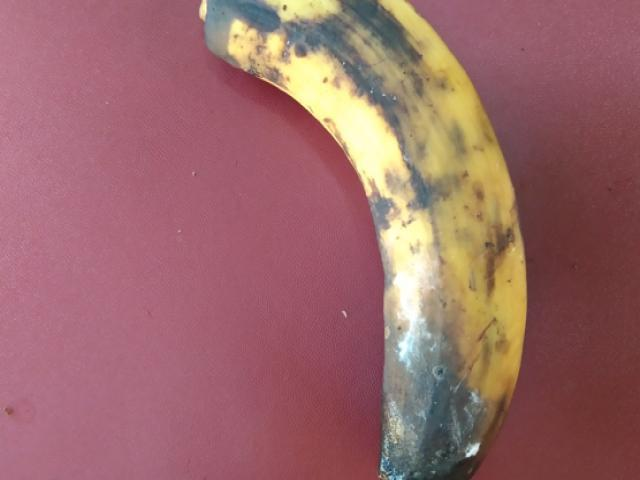rotten: (168, 0, 539, 474)
